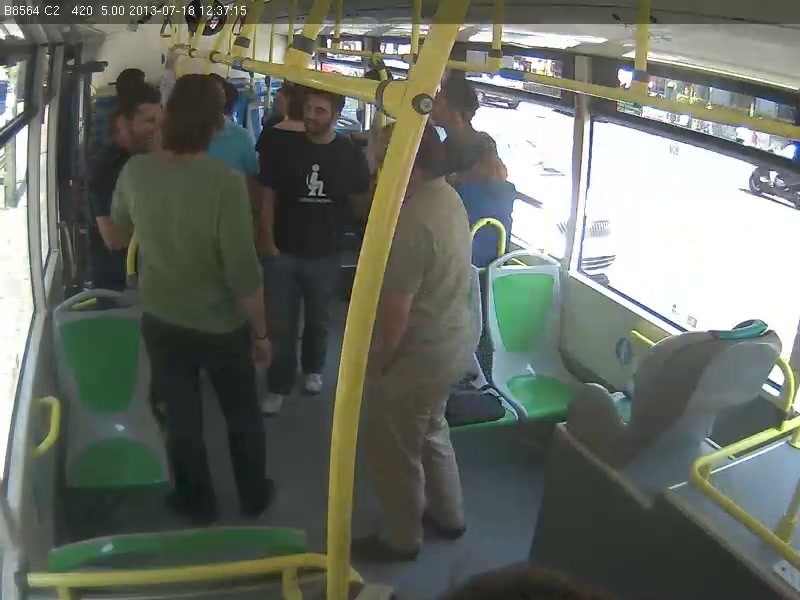Head: (155, 66, 233, 165), (106, 80, 167, 159), (404, 116, 453, 199), (298, 78, 347, 141), (429, 78, 481, 137)
